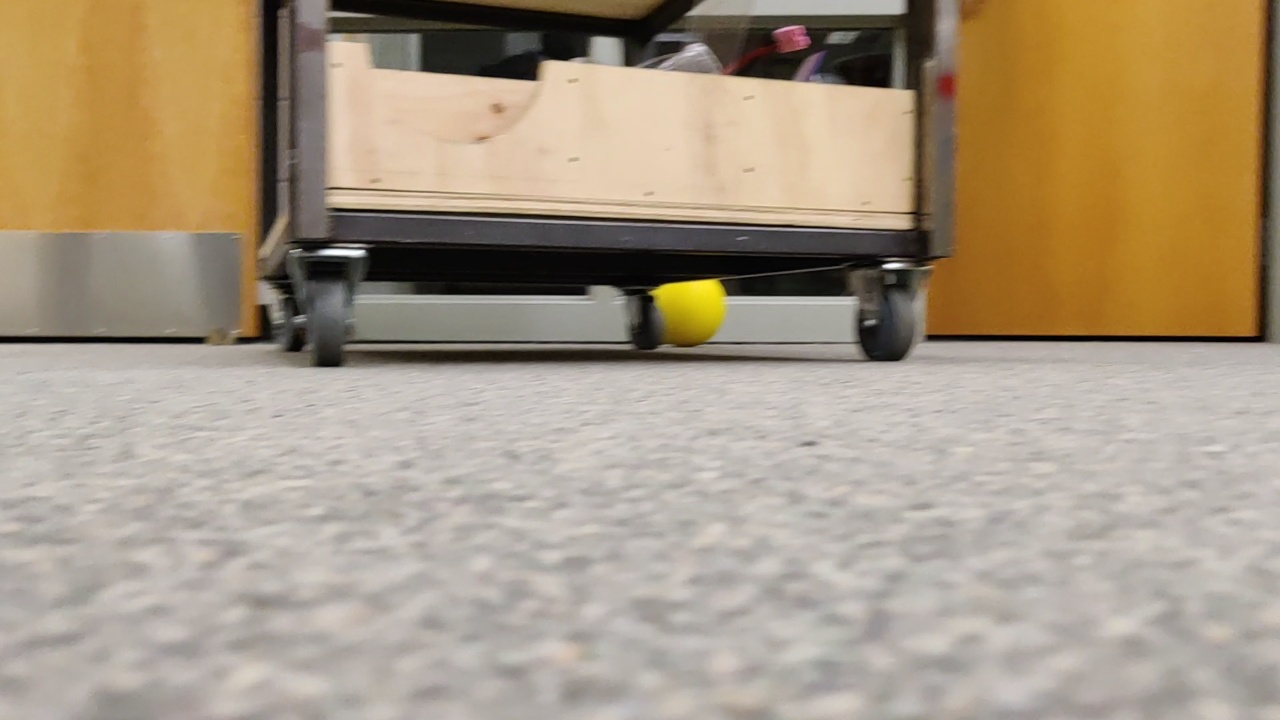Ball: (621, 274, 731, 355)
